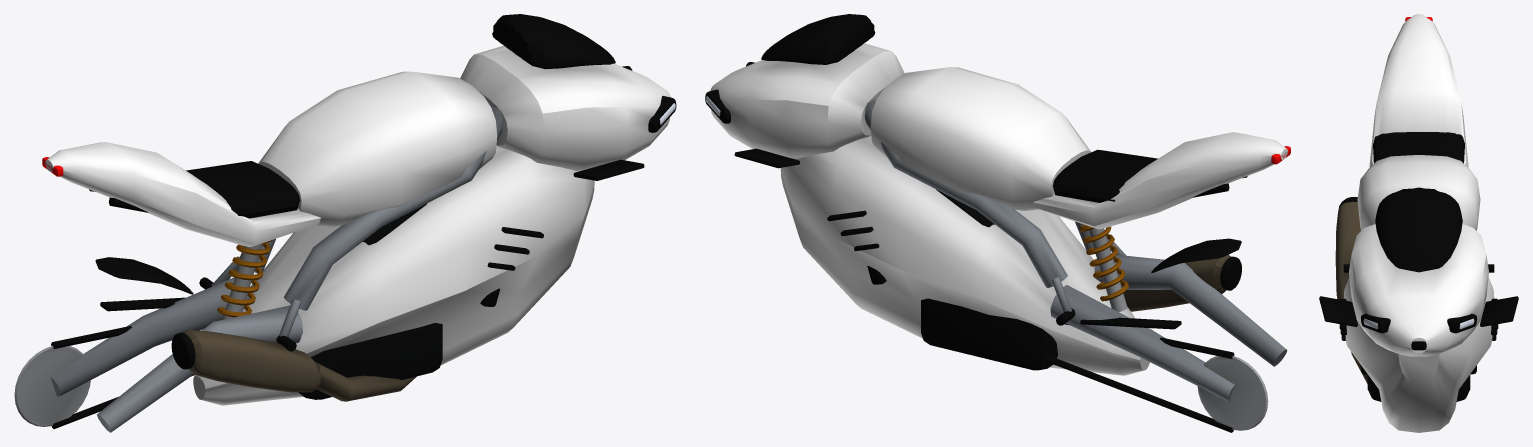
Rendered from bike_strada_body.glb.
The picture shows the model from 3 angles, left to right: view 1: azimuth 30°, elevation 25°; view 2: azimuth 150°, elevation 25°; view 3: azimuth 270°, elevation 25°; orthographic projection. The views are drawn at different scales.
Parts seen in each view (by area): view 1: bk_fairing, bk_tank, bk_nose, bk_tail, bk_silencer, bk_arm-1, bk_crank, bk_arm1, bk_spar1, bk_screen, bk_seat, bk_sprocketR (+7 smaller); view 2: bk_fairing, bk_tank, bk_nose, bk_tail, bk_crank, bk_arm1, bk_arm-1, bk_spar-1, bk_screen, bk_seat, bk_sprocketR, bk_silencer (+7 smaller); view 3: bk_nose, bk_fairing, bk_tail, bk_screen, bk_tank, bk_seat, bk_silencer, bk_wing1, bk_wing-1, bk_crank, bk_eye-1, bk_eye1.
Part boxes in pixels (bbox=[...]): bk_fairing: bbox=[193, 145, 594, 405]; bk_tank: bbox=[258, 71, 497, 227]; bk_nose: bbox=[460, 45, 670, 170]; bk_tail: bbox=[45, 142, 320, 247]; bk_silencer: bbox=[183, 330, 320, 392]; bk_arm-1: bbox=[50, 277, 253, 396]; bk_crank: bbox=[298, 323, 442, 399]; bk_arm1: bbox=[97, 305, 302, 432]; bk_spar1: bbox=[284, 106, 503, 310]; bk_screen: bbox=[492, 14, 615, 69]; bk_seat: bbox=[186, 161, 299, 218]; bk_sprocketR: bbox=[14, 345, 90, 426]; bk_fairing: bbox=[780, 136, 1149, 375]; bk_tank: bbox=[870, 67, 1090, 210]; bk_nose: bbox=[710, 43, 904, 158]; bk_tail: bbox=[1033, 132, 1287, 229]; bk_crank: bbox=[921, 298, 1057, 370]; bk_arm1: bbox=[1094, 255, 1287, 366]; bk_arm-1: bbox=[1050, 285, 1234, 401]; bk_spar-1: bbox=[864, 99, 1067, 287]; bk_screen: bbox=[761, 14, 875, 64]; bk_seat: bbox=[1053, 149, 1157, 202]; bk_sprocketR: bbox=[1197, 356, 1268, 430]; bk_silencer: bbox=[1123, 254, 1230, 311]; bk_nose: bbox=[1349, 224, 1488, 356]; bk_fairing: bbox=[1343, 277, 1494, 432]; bk_tail: bbox=[1369, 14, 1468, 167]; bk_screen: bbox=[1375, 187, 1462, 272]; bk_tank: bbox=[1357, 155, 1480, 230]; bk_seat: bbox=[1373, 132, 1464, 163]; bk_silencer: bbox=[1335, 201, 1360, 299]; bk_wing1: bbox=[1319, 296, 1357, 326]; bk_wing-1: bbox=[1480, 296, 1518, 326]; bk_crank: bbox=[1367, 374, 1470, 401]; bk_eye-1: bbox=[1447, 313, 1476, 333]; bk_eye1: bbox=[1361, 313, 1390, 333].
Size of the model in its own units: 1.8 by 0.8803 by 0.5837.
